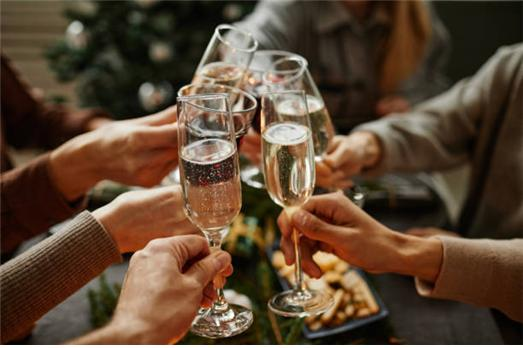alcohol: (177, 136, 253, 335), (262, 123, 334, 315), (264, 53, 333, 157), (175, 82, 253, 148), (195, 24, 252, 82)
